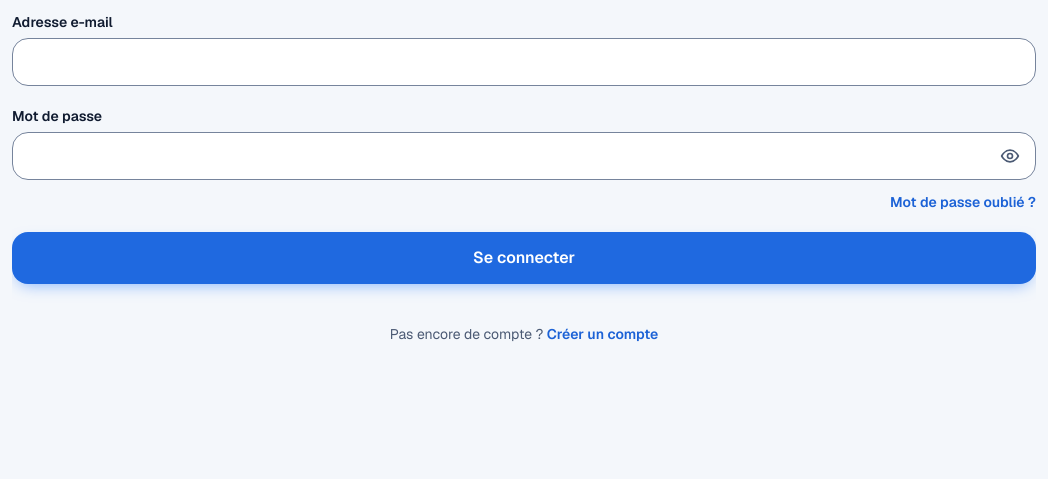
Test: Supabase configuré › propose de renvoyer l’e-mail si l’adresse n’est pas confirmée
The image size is (1048, 479).
Type "prenom@domaine.fr" into the field labelled "Adresse e-mail". click: [524, 62]
box: [12,38,1036,86]
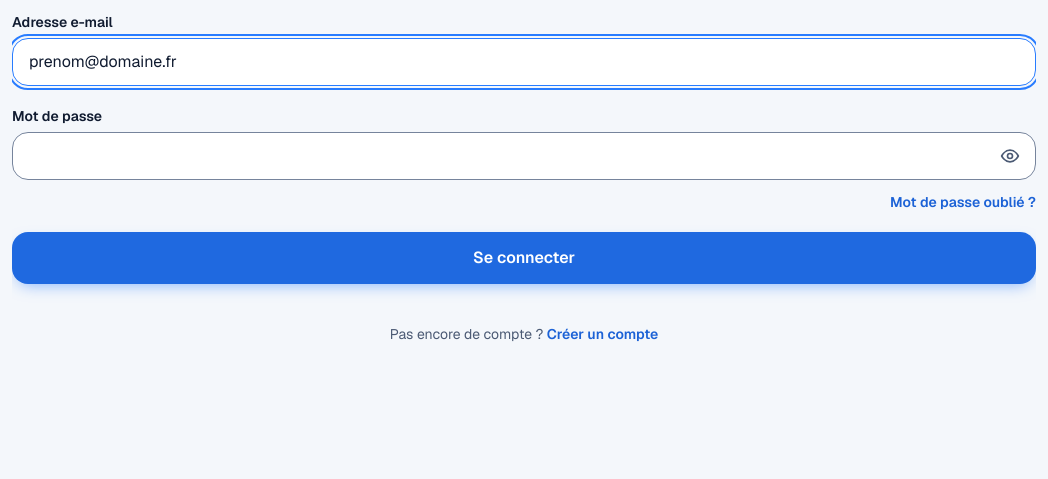
Type "secret123" into the password field labelled "Mot de passe". click: [524, 156]
box: [12,132,1036,180]
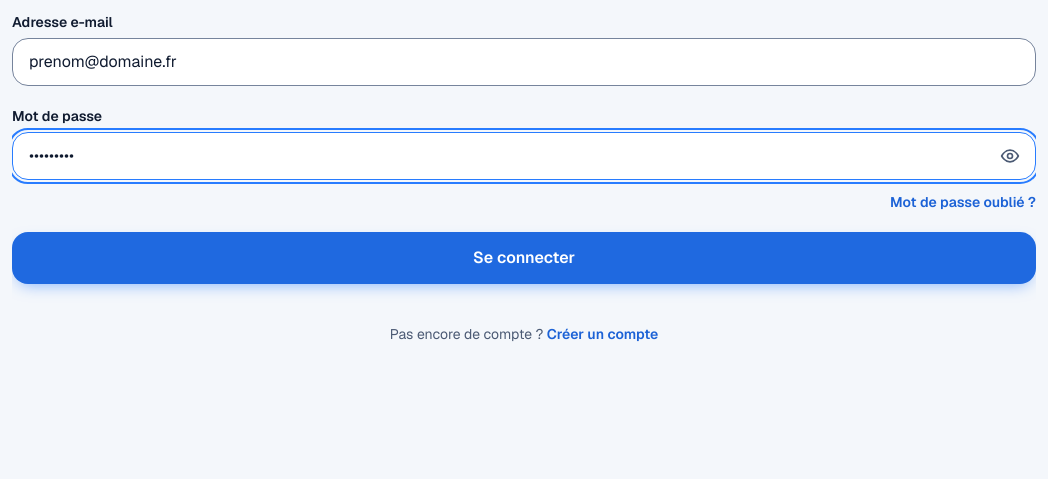
Click the button "Se connecter". click: [524, 258]
box: [12,232,1036,284]
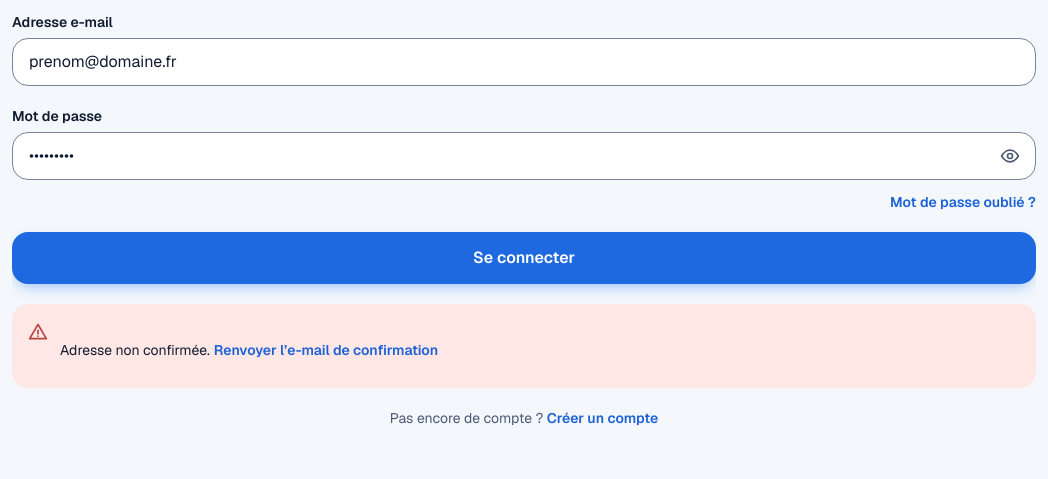
Click the button "Renvoyer l’e-mail de confirmation". click: [326, 350]
box: [198,328,454,372]
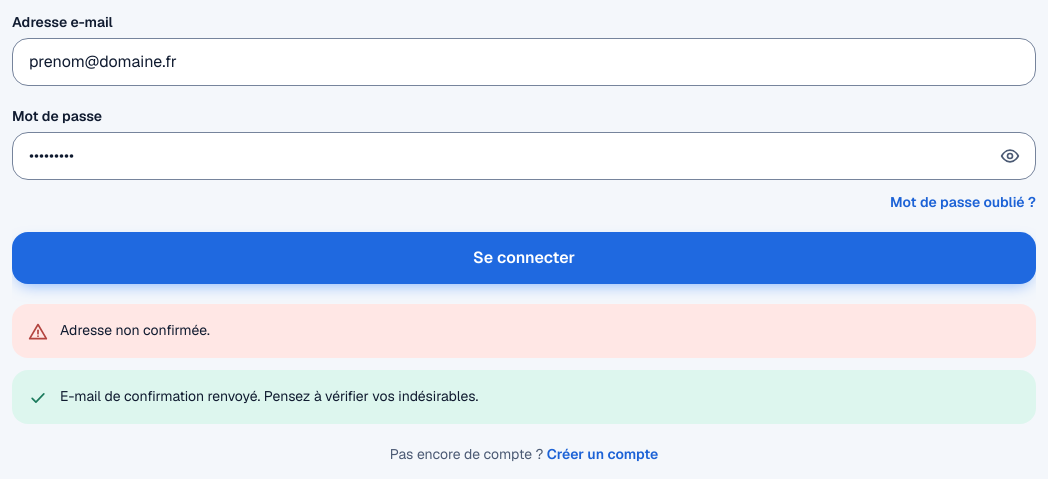
Now the text "E-mail de confirmation renvoyé" is shown, box [60,387,478,405]
